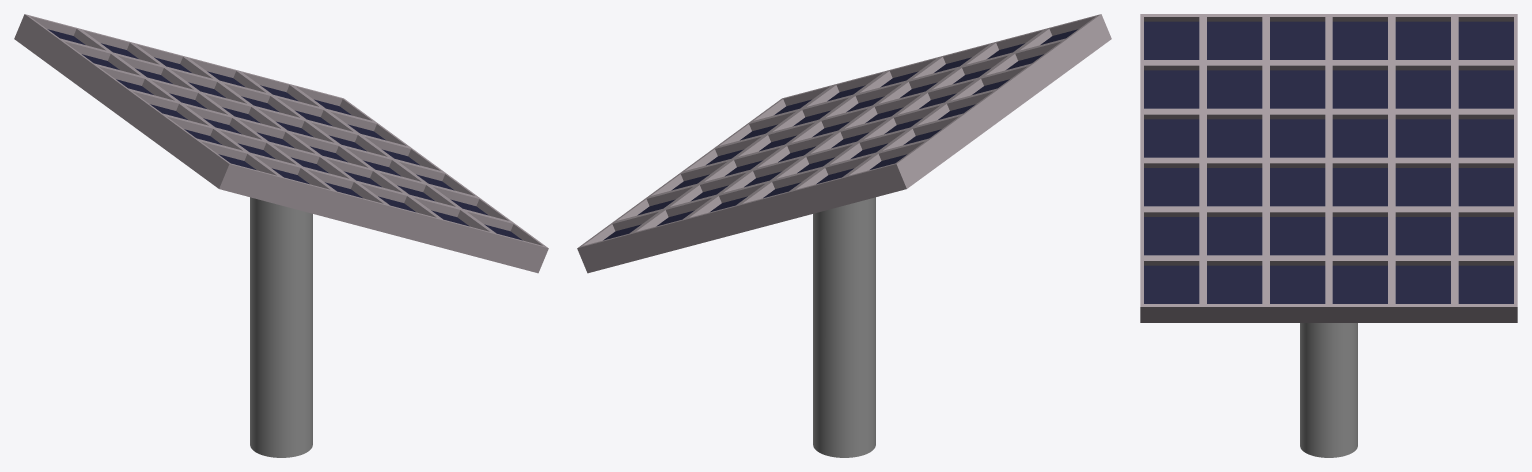
The model's file is pannel.glb.
3 renders of one model, left to right at view 1: azimuth 30°, elevation 25°; view 2: azimuth 150°, elevation 25°; view 3: azimuth 270°, elevation 25°, orthographic. The views are drawn at different scales.
Parts seen in each view (by area): view 1: Cylinder.002; view 2: Cylinder.002; view 3: Cylinder.002.
Boxes of the visible parts, x1,y1,x2,y2 form: Cylinder.002: [14, 14, 548, 457]; Cylinder.002: [577, 14, 1111, 457]; Cylinder.002: [1140, 14, 1517, 457].
Size of the model in its own units: 0.3944 by 0.4495 by 0.4246.
